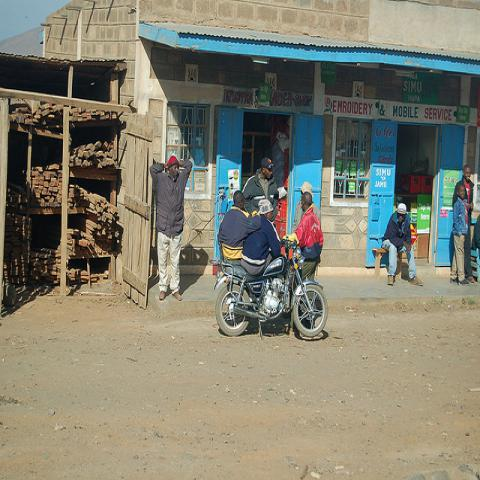motorcycle: (210, 238, 327, 342)
